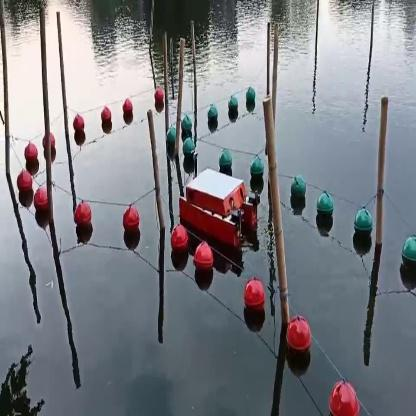green_buoy: (353, 204, 372, 254), (315, 194, 333, 236), (289, 170, 306, 210), (402, 230, 415, 282), (250, 156, 266, 185), (243, 84, 257, 111), (204, 104, 218, 131), (168, 124, 176, 160), (184, 140, 196, 164), (180, 114, 194, 134), (222, 144, 230, 171), (228, 97, 237, 119)
red_buoy: (284, 308, 314, 364), (324, 370, 357, 415), (72, 195, 96, 239), (244, 277, 266, 316), (167, 226, 190, 263), (194, 241, 213, 285), (122, 207, 141, 241), (22, 140, 41, 172), (16, 170, 34, 202), (118, 96, 136, 126), (72, 113, 86, 147), (36, 186, 46, 220), (101, 104, 112, 128), (154, 88, 164, 108)
